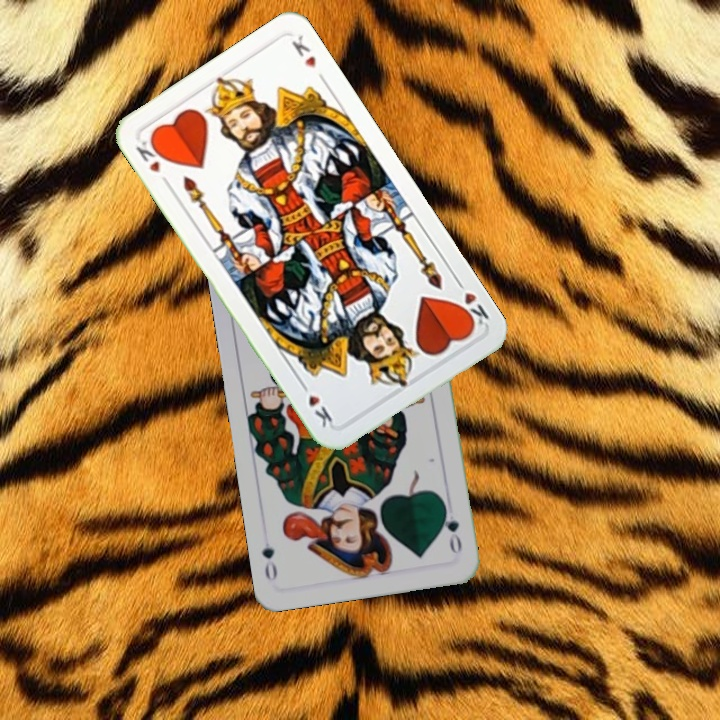GO: (438, 500, 465, 557)
HK: (131, 132, 173, 189), (451, 274, 492, 331)
